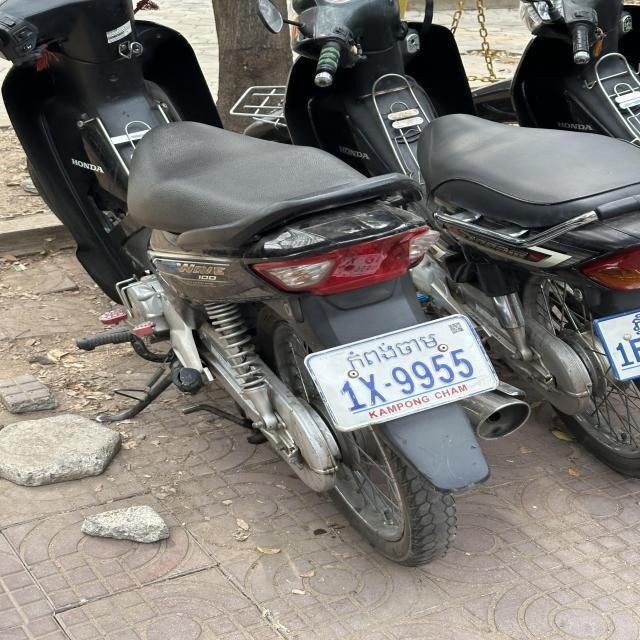Kampong_Cham: (346, 331, 439, 370)
